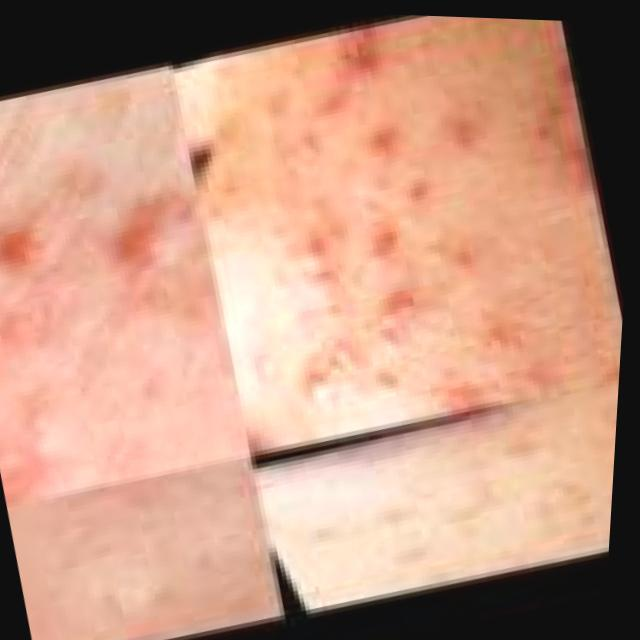cyst: (120, 220, 169, 262), (9, 221, 48, 258), (305, 366, 336, 403), (564, 150, 594, 188), (348, 43, 381, 76), (380, 295, 415, 326), (448, 385, 484, 415), (369, 229, 393, 257), (303, 231, 325, 261), (371, 133, 392, 153)
